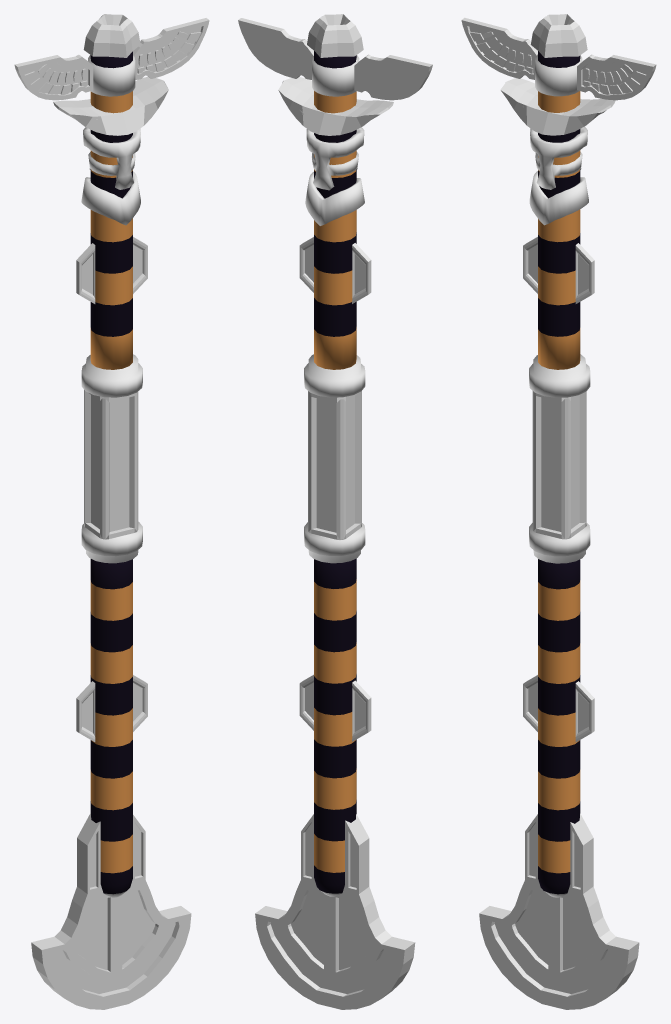
Rendered from UpgradedSandStaff.fbx.
3 views of the same model, side by side, from view 1: azimuth 30°, elevation 25°; view 2: azimuth 150°, elevation 25°; view 3: azimuth 330°, elevation 25° (orthographic).
Visible parts, largest first — view 1: Cube.015; view 2: Cube.015; view 3: Cube.015.
Part boxes in pixels (<box>): Cube.015: <box>14,14,209,1009</box>; Cube.015: <box>238,14,432,1009</box>; Cube.015: <box>461,14,656,1009</box>.
Bounding box in the file's own units: 32.1 × 157 × 9.54.
